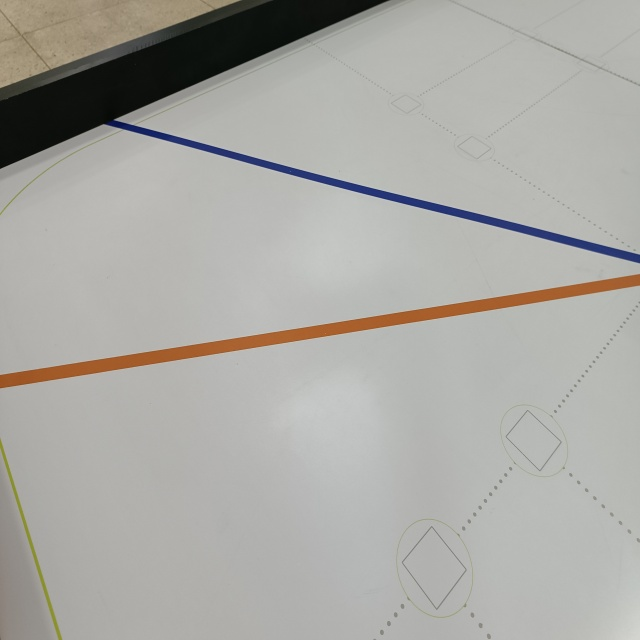blue line: (96, 111, 640, 265)
orange line: (1, 269, 640, 395)
